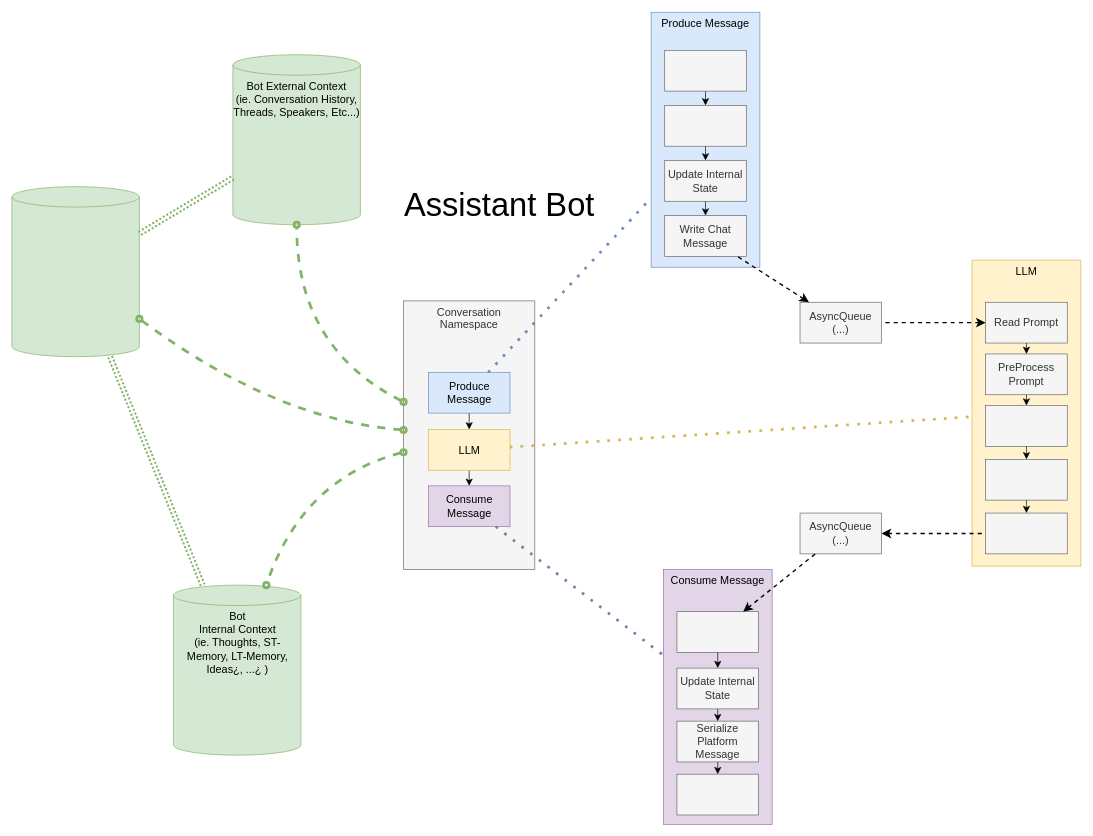
This 1093x836 diagram has some shape labels left out. Each missing label, with the centre of its shape:
Deserialize Platform Message: [705,125]
Generate Response: [1026,425]
Message Context (ie. Speaker, Response, Timestamps, Thoughts, etc.., etc...): [75,271]
PostProcess Response: [1026,479]
Read Chat Message: [717,631]
Read Platform Message: [705,70]
Write Platform Message: [717,794]
Write Response: [1026,533]
